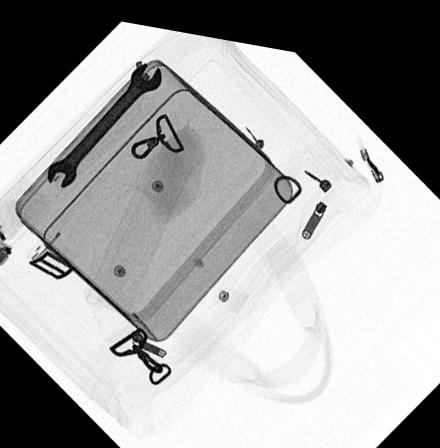Wrench: (46, 58, 162, 186)
